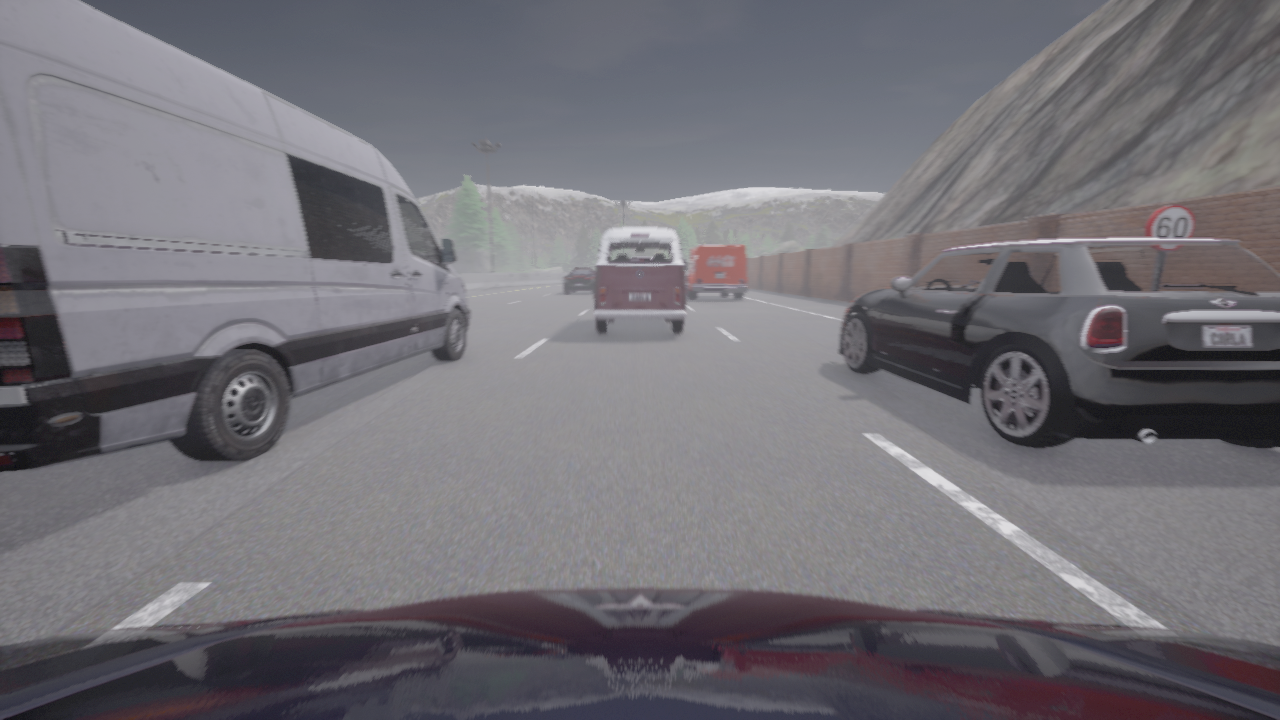cyclist: (0, 588, 1279, 719), (839, 237, 1279, 448), (593, 227, 686, 333), (683, 245, 747, 298), (563, 268, 594, 293)
